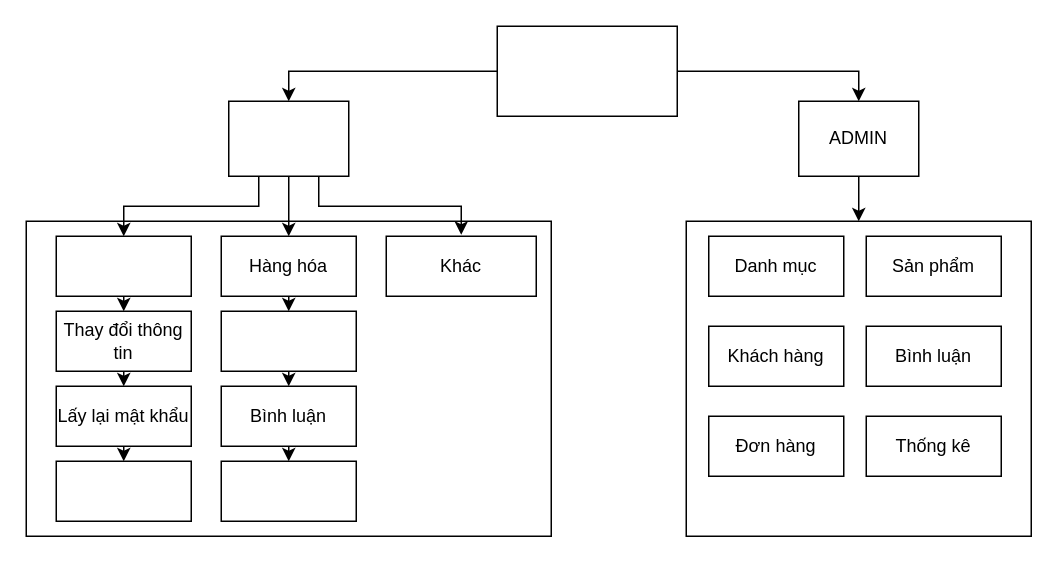
This 1058x563 diagram has some shape labels left out. The shapes that lost their labels are listed below. From the top down, each one's centre as x and y in pixels, then its label:
At (x=586, y=70): "Team5 - Shop".
At (x=288, y=138): "USER".
At (x=123, y=265): "Tài khoản".
At (x=288, y=340): "Xem chi tiết".
At (x=123, y=490): "Xem lịch sử".
At (x=288, y=490): "Đặt hàng".
